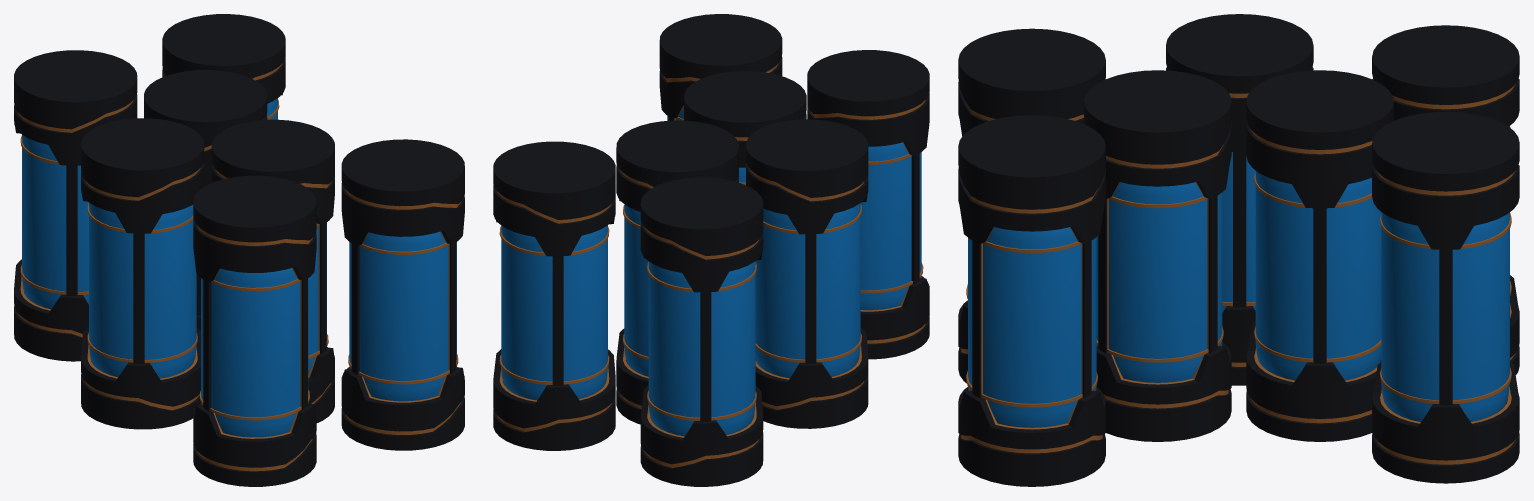
Rendered from 04_Pila_03.fbx.
3 views of the same model, side by side, from view 1: azimuth 30°, elevation 25°; view 2: azimuth 150°, elevation 25°; view 3: azimuth 270°, elevation 25° (orthographic). The views are drawn at different scales.
Parts seen in each view (by area): view 1: PilaStock_03; view 2: PilaStock_03; view 3: PilaStock_03.
Boxes of the visible parts, left/top/right/bottom form: PilaStock_03: left=14, top=14, right=464, bottom=486; PilaStock_03: left=493, top=14, right=929, bottom=486; PilaStock_03: left=958, top=14, right=1519, bottom=486.
Size of the model in its own units: 321 by 284 by 466.
